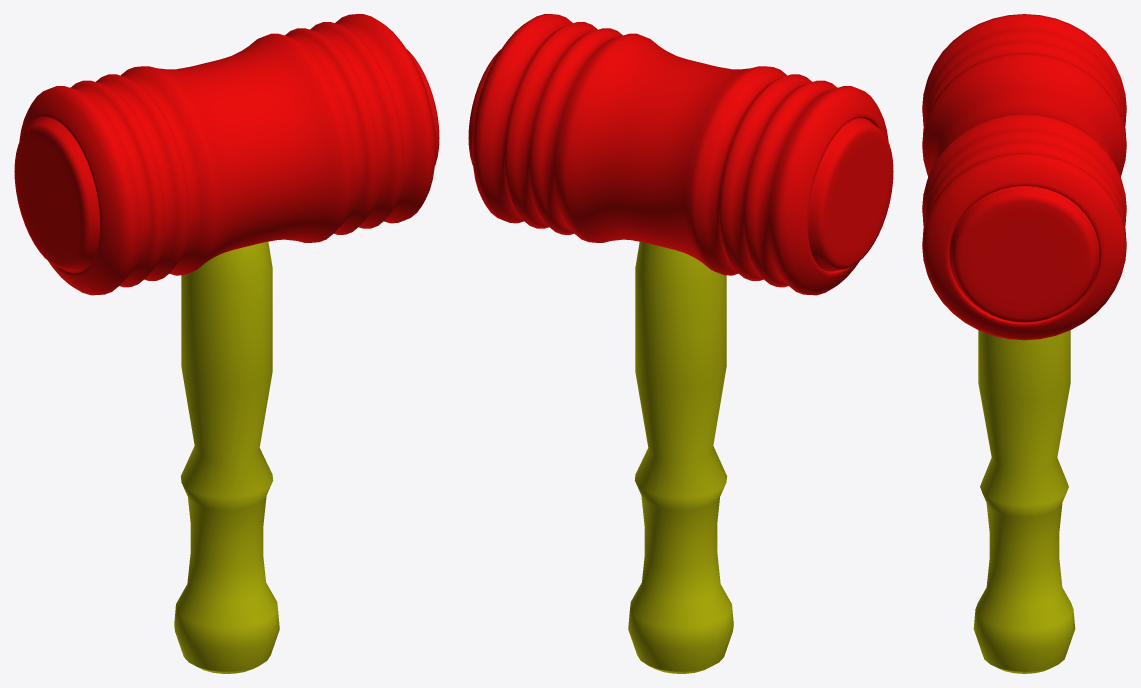
Rendered from Hammer.fbx.
3 views of the same model, side by side, from view 1: azimuth 30°, elevation 25°; view 2: azimuth 150°, elevation 25°; view 3: azimuth 270°, elevation 25° (orthographic). The views are drawn at different scales.
Visible parts, largest first — view 1: pCylinder3; view 2: pCylinder3; view 3: pCylinder3.
Boxes of the visible parts, x1,y1,x2,y2 form: pCylinder3: (14, 14, 439, 673); pCylinder3: (468, 14, 893, 673); pCylinder3: (922, 14, 1126, 673).
Size of the model in its own units: 4.32 by 7.04 by 2.25.
